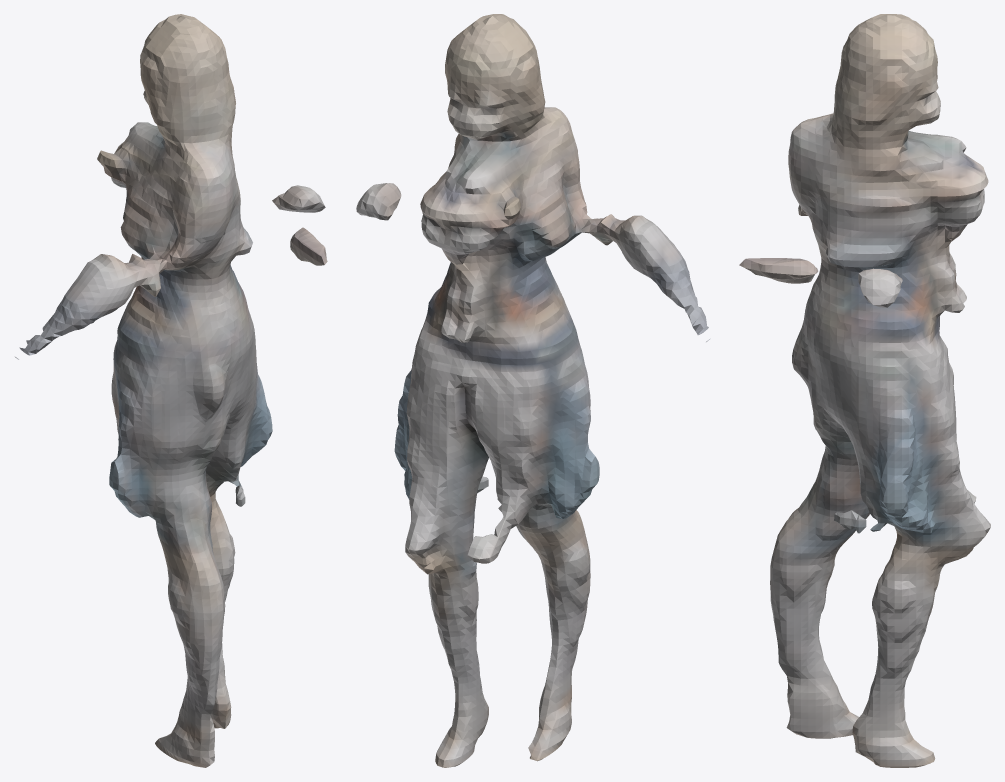
Rendered from result_tmpmd9f37n3.glb.
The picture shows the model from 3 angles, left to right: view 1: azimuth 30°, elevation 25°; view 2: azimuth 150°, elevation 25°; view 3: azimuth 270°, elevation 25°; orthographic projection. The views are drawn at different scales.
Parts seen in each view (by area): view 1: result_tmpmd9f37n3.obj_NQSALQQLRLV7; view 2: result_tmpmd9f37n3.obj_NQSALQQLRLV7; view 3: result_tmpmd9f37n3.obj_NQSALQQLRLV7.
Part boxes in pixels (x1,y1,x2,y2): result_tmpmd9f37n3.obj_NQSALQQLRLV7: [15, 14, 327, 767]; result_tmpmd9f37n3.obj_NQSALQQLRLV7: [356, 14, 710, 767]; result_tmpmd9f37n3.obj_NQSALQQLRLV7: [739, 14, 990, 767].
Size of the model in its own units: 0.8283 by 1.76 by 0.5475.
